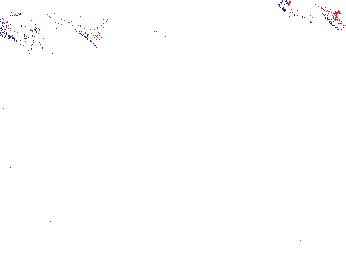X-ray fish: (227, 162, 246, 198)
glassfish: (68, 1, 198, 68)
redtail glassfish: (1, 12, 108, 53), (276, 1, 343, 32)
